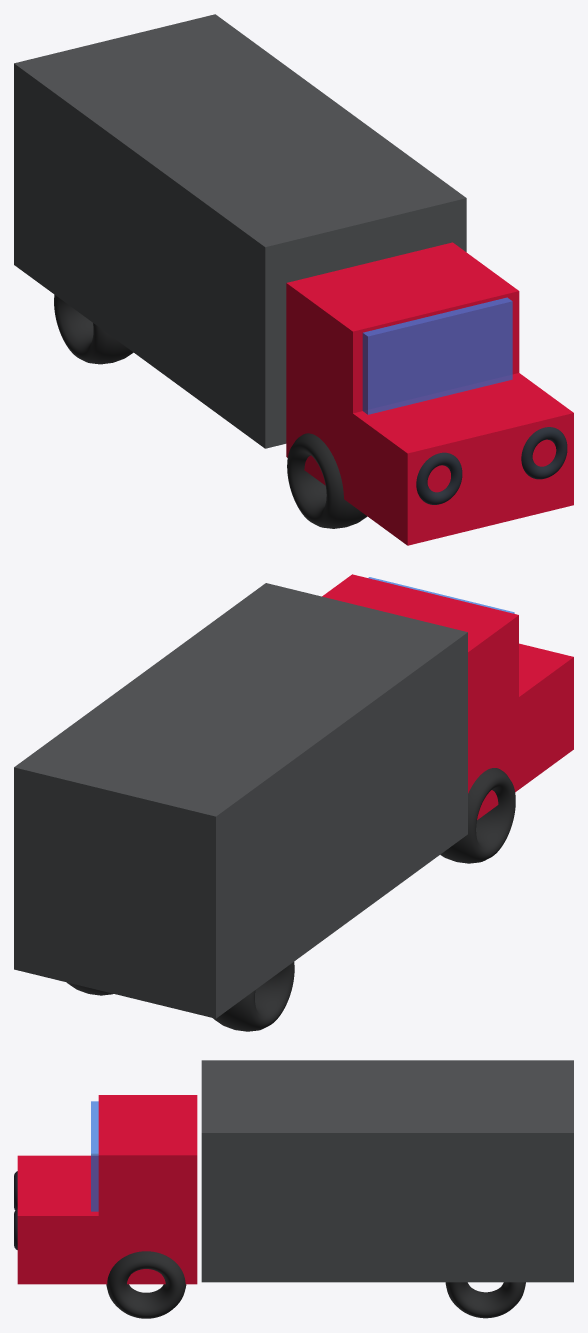
Rendered from caminhaoBom.glb.
3 renders of one model, top to bottom at view 1: azimuth 30°, elevation 25°; view 2: azimuth 150°, elevation 25°; view 3: azimuth 270°, elevation 25°, orthographic. The views are drawn at different scales.
Size of the model in its own units: 1.21 by 1.49 by 3.93.
